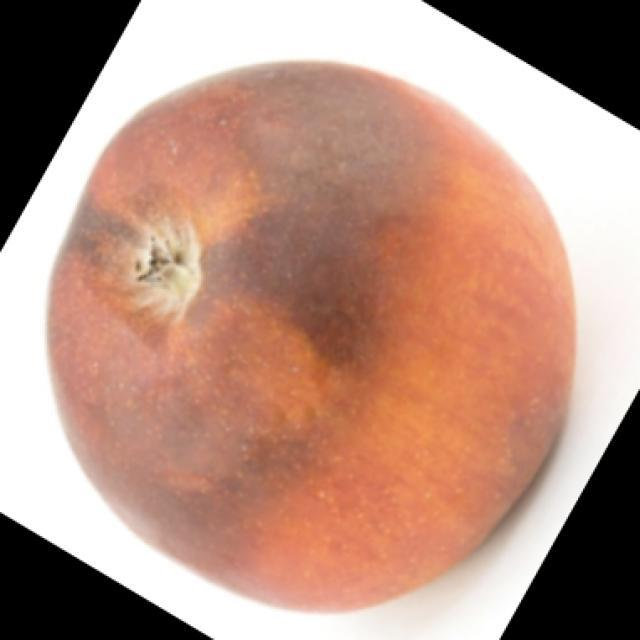Rotten: (22, 70, 573, 622)
